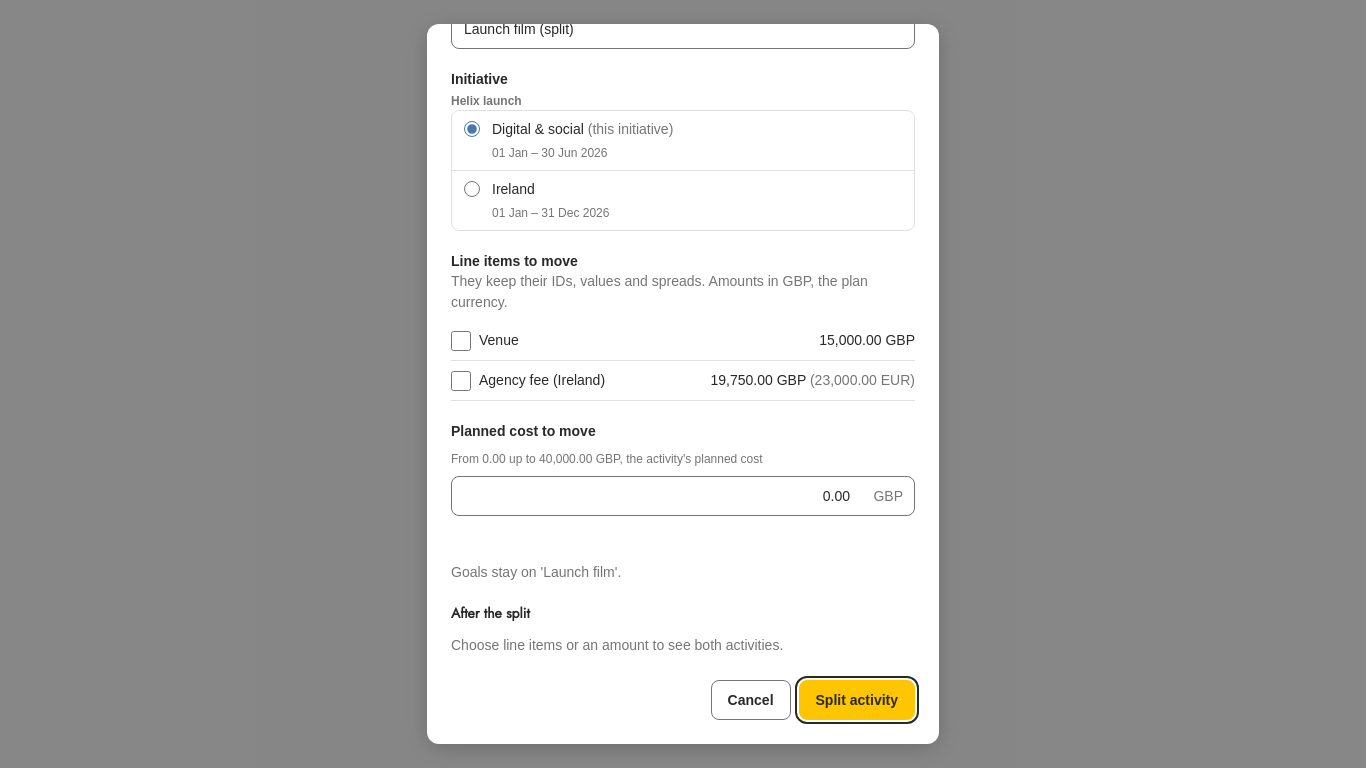
it: SplitActivityDialog (016 US4, FR-026 – FR-029) › says what to choose when nothing moves, and sends nothing (scenario 4)
(page scrolled)
expect the checkbox labelled "Venue" is shown: met, box [451,330,471,350]
Click the button "Split activity".
click(857, 700)  # box [798,680,915,720]
(page scrolled)
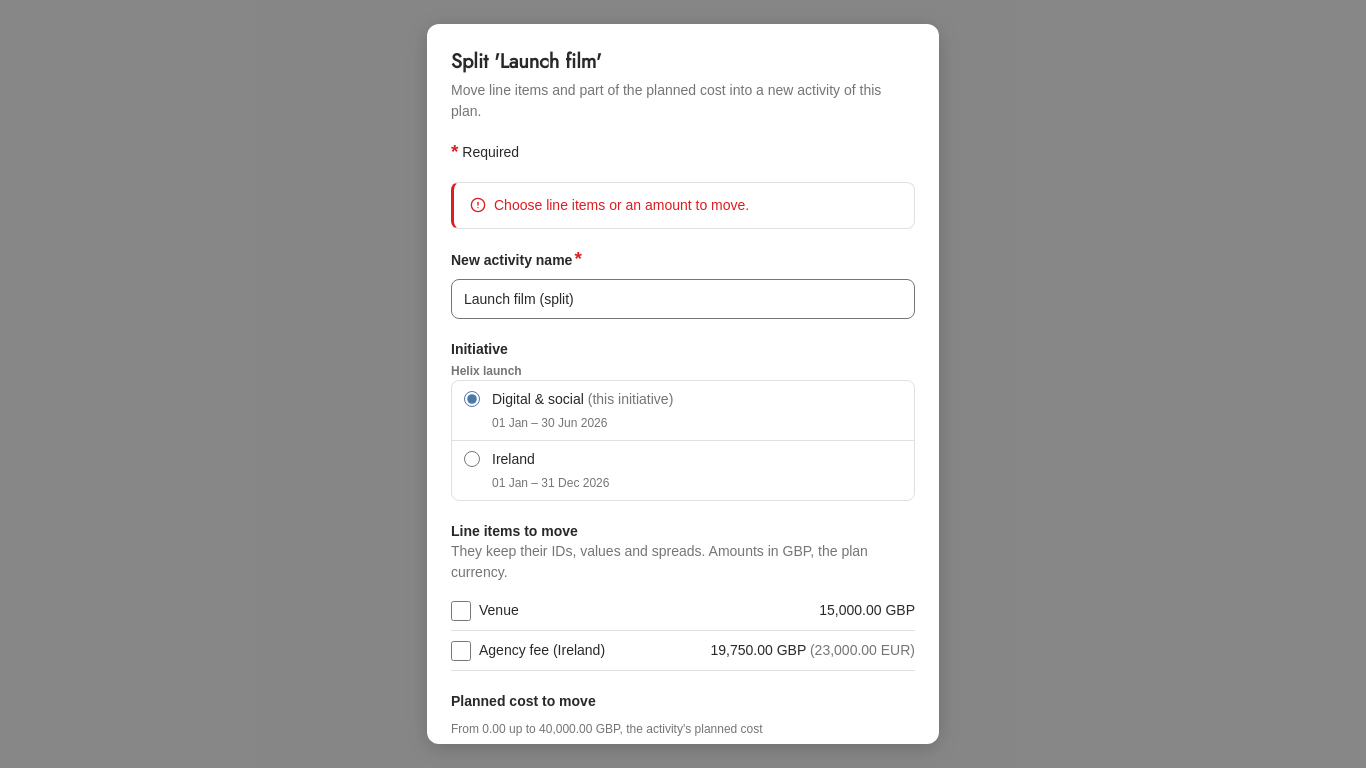
expect the message reads "Choose line items or an amount to move.": met, box [494,197,749,213]
